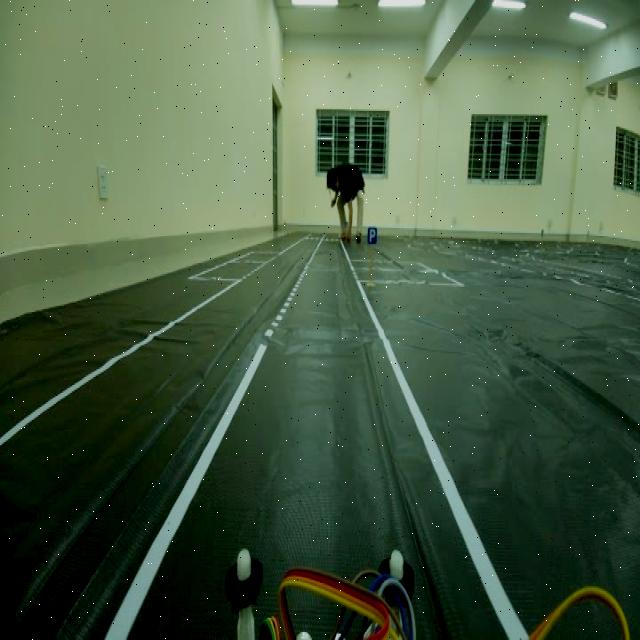parking: (364, 215, 384, 252)
